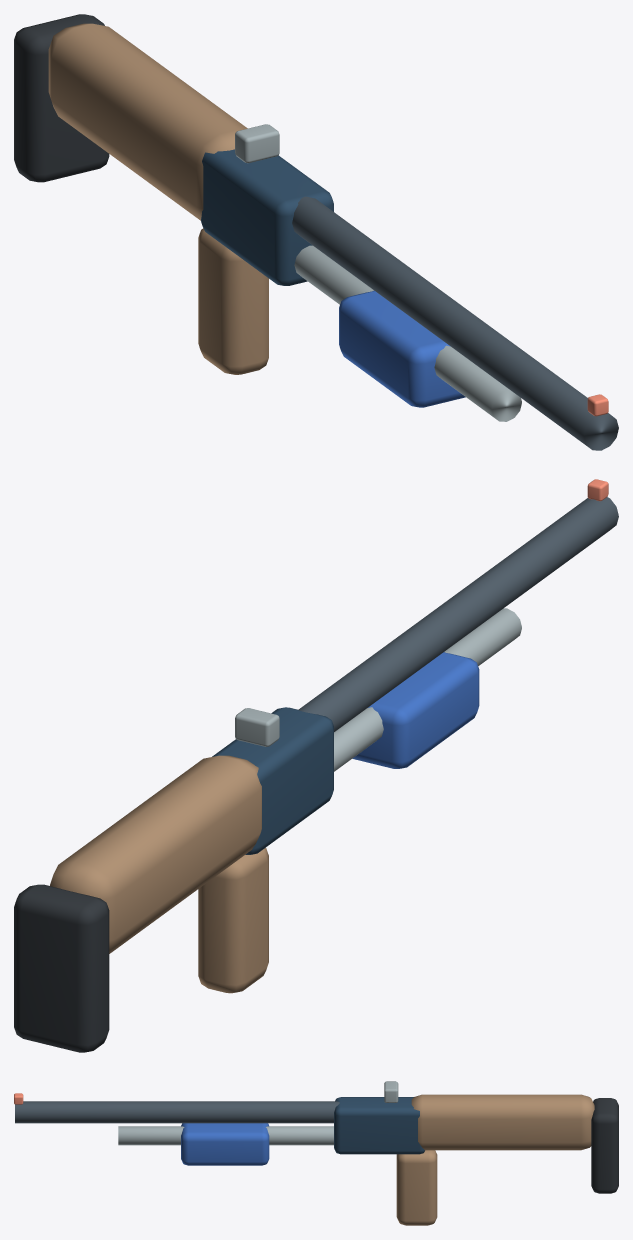
Rendered from HL_Shotgun_Breaker.fbx.
The picture shows the model from 3 angles, top to bottom: view 1: azimuth 30°, elevation 25°; view 2: azimuth 150°, elevation 25°; view 3: azimuth 270°, elevation 25°; orthographic projection. The views are drawn at different scales.
Parts seen in each view (by area): view 1: Shotgun | stock comb, Shotgun | upper barrel, Shotgun | receiver, Shotgun | stock butt, Shotgun | pump handguard, Shotgun | trigger grip, Shotgun | lower pump tube, Shotgun | rear sight; view 2: Shotgun | stock comb, Shotgun | stock butt, Shotgun | upper barrel, Shotgun | trigger grip, Shotgun | receiver, Shotgun | pump handguard, Shotgun | lower pump tube, Shotgun | rear sight; view 3: Shotgun | stock comb, Shotgun | upper barrel, Shotgun | receiver, Shotgun | pump handguard, Shotgun | trigger grip, Shotgun | lower pump tube, Shotgun | stock butt, Shotgun | rear sight.
Part boxes in pixels (<box>): Shotgun | stock comb: <box>48,23,247,220</box>; Shotgun | upper barrel: <box>292,196,618,450</box>; Shotgun | receiver: <box>201,149,333,285</box>; Shotgun | stock butt: <box>14,14,109,182</box>; Shotgun | pump handguard: <box>339,290,465,407</box>; Shotgun | trigger grip: <box>198,228,268,374</box>; Shotgun | lower pump tube: <box>294,245,521,421</box>; Shotgun | rear sight: <box>235,124,279,163</box>; Shotgun | stock comb: <box>50,755,261,953</box>; Shotgun | stock butt: <box>14,884,109,1052</box>; Shotgun | upper barrel: <box>298,497,618,731</box>; Shotgun | trigger grip: <box>198,848,268,993</box>; Shotgun | receiver: <box>212,707,333,854</box>; Shotgun | pump handguard: <box>352,652,479,768</box>; Shotgun | lower pump tube: <box>334,608,521,771</box>; Shotgun | rear sight: <box>235,708,279,746</box>; Shotgun | stock comb: <box>411,1094,594,1150</box>; Shotgun | upper barrel: <box>15,1101,339,1123</box>; Shotgun | receiver: <box>334,1097,424,1154</box>; Shotgun | pump handguard: <box>181,1123,269,1165</box>; Shotgun | trigger grip: <box>396,1150,437,1225</box>; Shotgun | lower pump tube: <box>118,1126,333,1145</box>; Shotgun | stock butt: <box>591,1098,618,1193</box>; Shotgun | rear sight: <box>384,1081,398,1102</box>.
Bounding box in the file's own units: 14 × 41.1 × 164.
